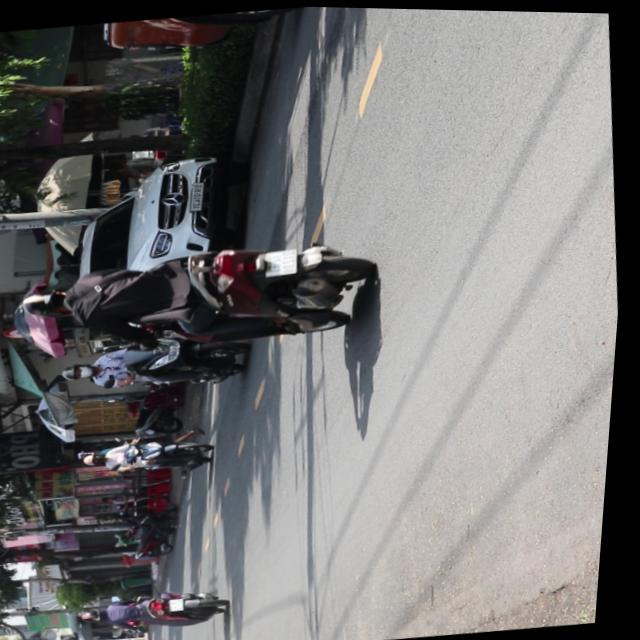helmet: (20, 285, 77, 321), (63, 361, 99, 381), (88, 607, 114, 621), (87, 451, 112, 465)
licenseplate: (11, 223, 388, 368), (60, 328, 256, 400), (85, 582, 237, 637), (84, 428, 222, 480)
nohelmet: (265, 246, 301, 275), (176, 597, 191, 610)
